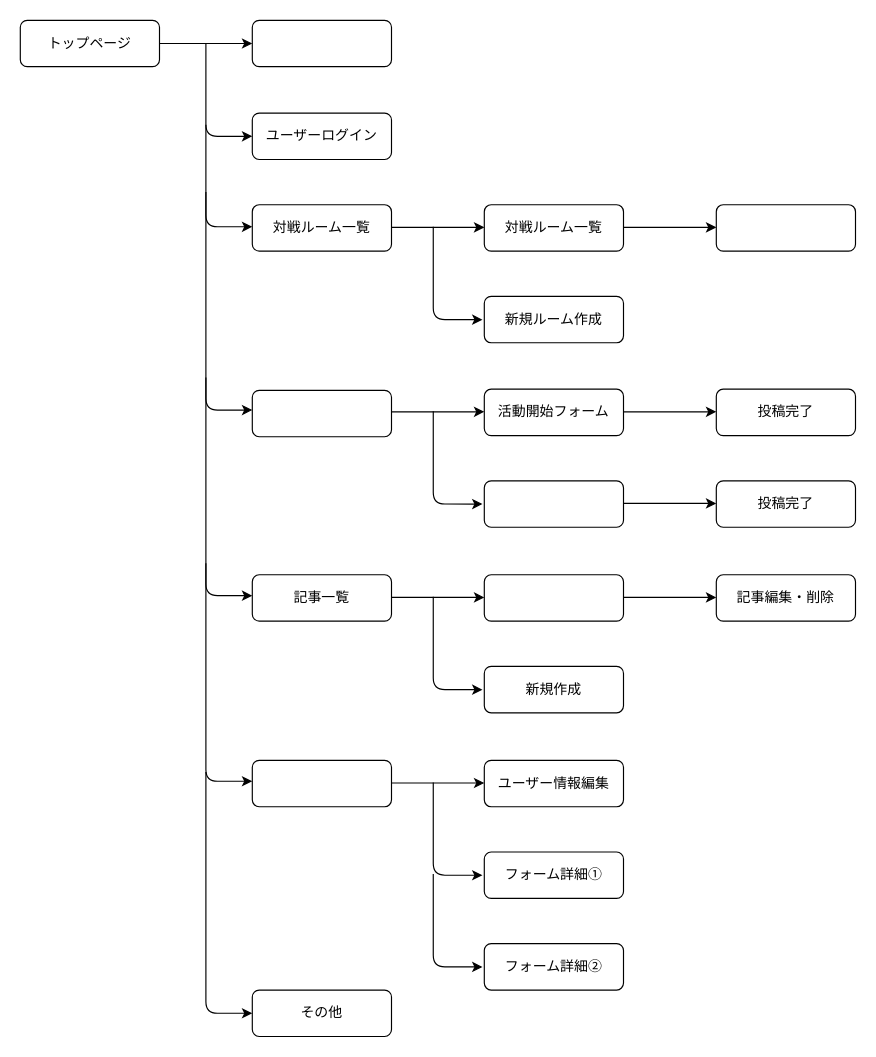
The diagram is 876 pixels wide and 1057 high, and some of its shapes have lost their labels. The shapes that lost their labels are listed below. From the top down, each one's centre as x and y in pixels, then its label:
At (321,43): "ユーザー新規登録".
At (785,227): "ルール編集".
At (321,413): "フォーム選択".
At (553,503): "振り返りフォーム".
At (553,597): "記事詳細".
At (321,783): "マイページ".
